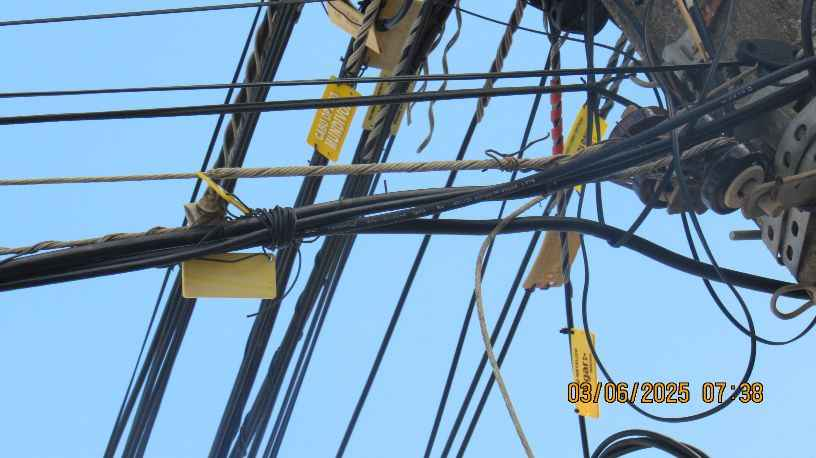drop: (635, 15, 816, 104)
fibra_optica: (144, 193, 296, 316), (283, 54, 421, 184), (545, 85, 625, 194)
